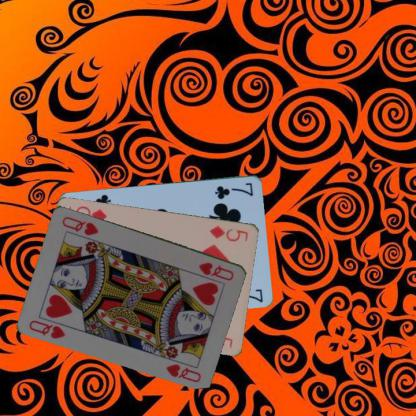5d: (208, 222, 250, 242)
7c: (212, 180, 255, 200)
Qh: (195, 259, 235, 282), (27, 318, 67, 340)
